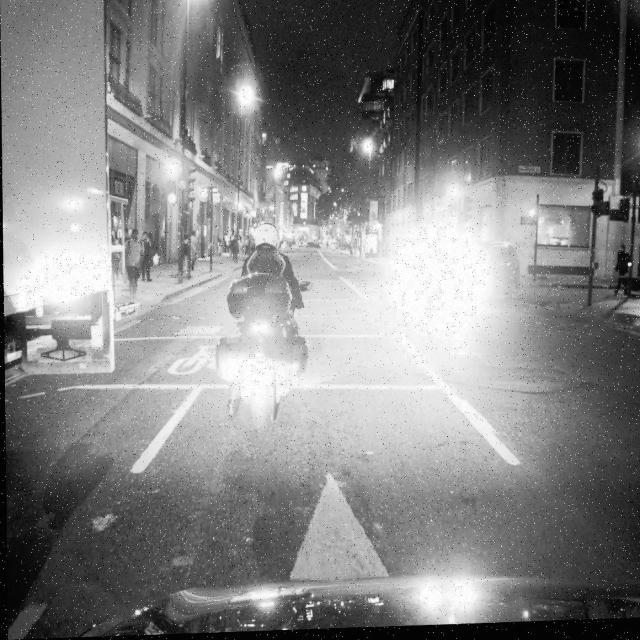Truck: (0, 0, 120, 499)
